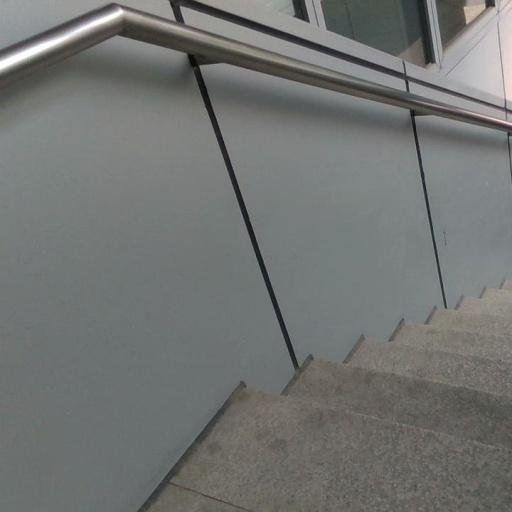stairs: (149, 282, 511, 511)
